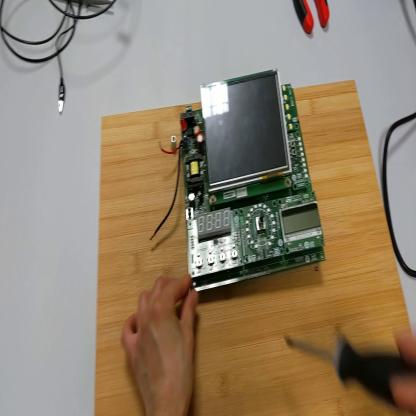hand: (122, 271, 200, 408), (391, 325, 416, 407)
low voltage board: (150, 68, 329, 290)
pliers: (294, 1, 332, 37)
screwdriver-: (285, 335, 415, 408)
working area: (98, 79, 415, 416)
